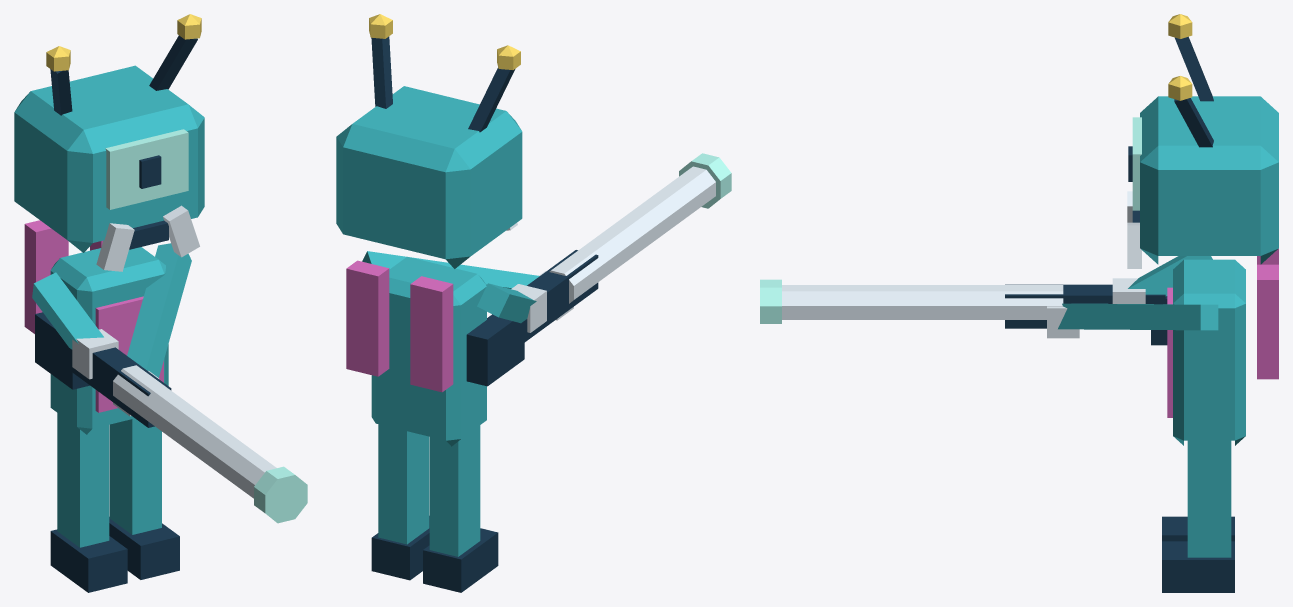
The model's file is sniper_enemy_r12.glb.
The picture shows the model from 3 angles, left to right: view 1: azimuth 30°, elevation 25°; view 2: azimuth 150°, elevation 25°; view 3: azimuth 270°, elevation 25°; orthographic projection. The views are drawn at different scales.
Parts seen in each view (by area): view 1: sniper_enemy_r12_mesh; view 2: sniper_enemy_r12_mesh; view 3: sniper_enemy_r12_mesh.
Part boxes in pixels (bbox=[...]): sniper_enemy_r12_mesh: bbox=[14, 14, 307, 592]; sniper_enemy_r12_mesh: bbox=[336, 14, 731, 592]; sniper_enemy_r12_mesh: bbox=[760, 14, 1278, 592].
Size of the model in its own units: 0.512 by 1.7 by 1.52.
1 material, 1 textured.
